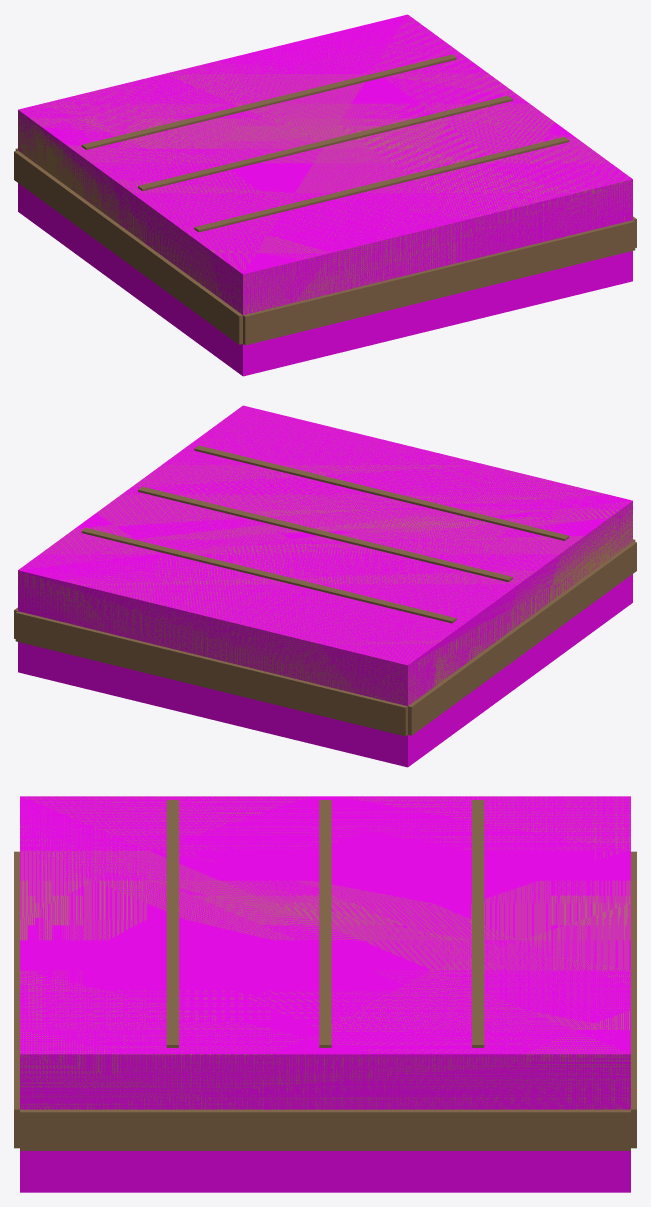
The model's file is floor.glb.
3 views of the same model, one above another, from view 1: azimuth 30°, elevation 25°; view 2: azimuth 150°, elevation 25°; view 3: azimuth 270°, elevation 25° (orthographic). The views are drawn at different scales.
Parts seen in each view (by area): view 1: Col_main, M_b0, M_b1; view 2: Col_main, M_b0, M_b1; view 3: Col_main, M_b0, M_b1.
Part boxes in pixels (box(x1,y1,x2,y2)): Col_main: box(18, 14, 632, 376); M_b0: box(18, 15, 632, 314); M_b1: box(14, 54, 636, 345); Col_main: box(18, 405, 632, 767); M_b0: box(18, 406, 632, 705); M_b1: box(14, 445, 636, 736); Col_main: box(20, 796, 630, 1192); M_b0: box(20, 796, 630, 1109); M_b1: box(14, 800, 636, 1150).
Size of the model in its own units: 2.04 by 0.51 by 2.04.
